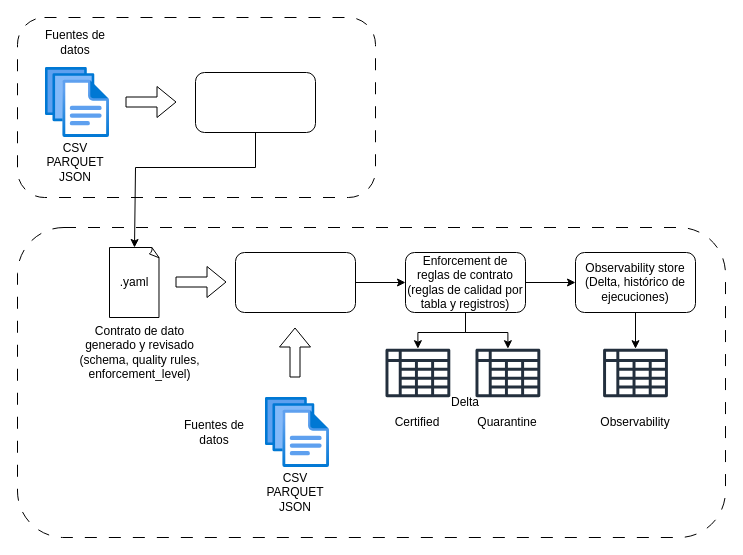
Some shapes in this 743 by 555 pixel diagram are drawn without their labels. The shapes that lost their labels are listed below. From the top down, each one's box as (x1, y1, x2, y2) in pixels, then its label:
(194, 72, 316, 132): Onboarding (Generación de contratos con PySpark)
(234, 252, 356, 312): Construcción de modelo de validación de datos (Pydantic)
